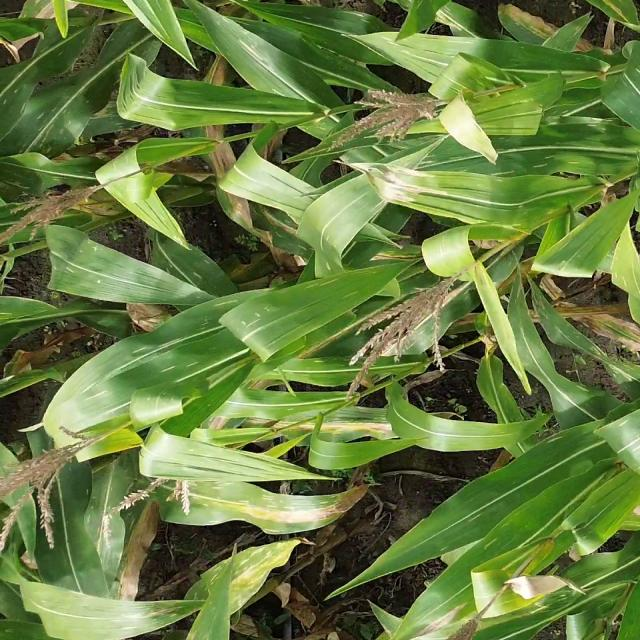gray-leaf-spot: (66, 345, 202, 413), (573, 335, 640, 392), (110, 599, 200, 640), (211, 556, 274, 609)
northern-leaf-blight: (230, 492, 393, 545), (353, 155, 450, 222)
southern-leaf-blight: (23, 109, 84, 161)
